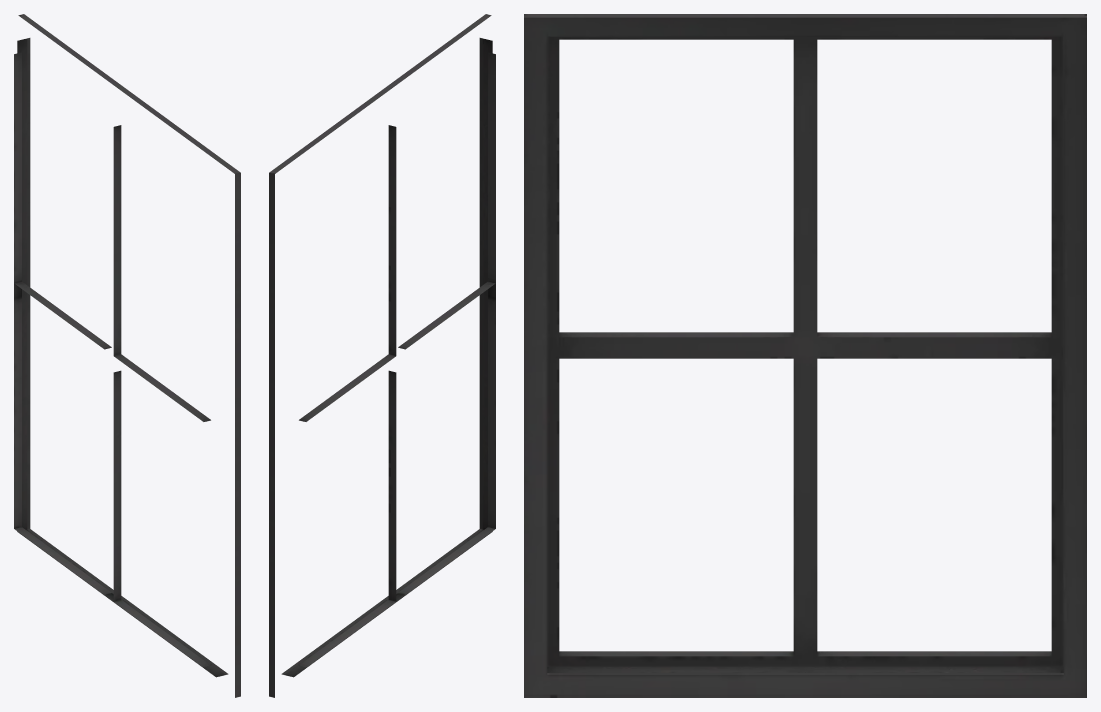
3 renders of one model, left to right at view 1: azimuth 30°, elevation 25°; view 2: azimuth 150°, elevation 25°; view 3: azimuth 270°, elevation 25°, orthographic. The views are drawn at different scales.
Parts seen in each view (by area): view 1: body0_model0_lod0_mesh0; view 2: body0_model0_lod0_mesh0; view 3: body0_model0_lod0_mesh0.
Part boxes in pixels (box(x1,y1,x2,y2)): body0_model0_lod0_mesh0: box(14, 14, 240, 697); body0_model0_lod0_mesh0: box(269, 14, 495, 697); body0_model0_lod0_mesh0: box(524, 14, 1086, 697).
Size of the model in its own units: 6 by 128 by 96.
Materials: 1 (1 with a texture image).
